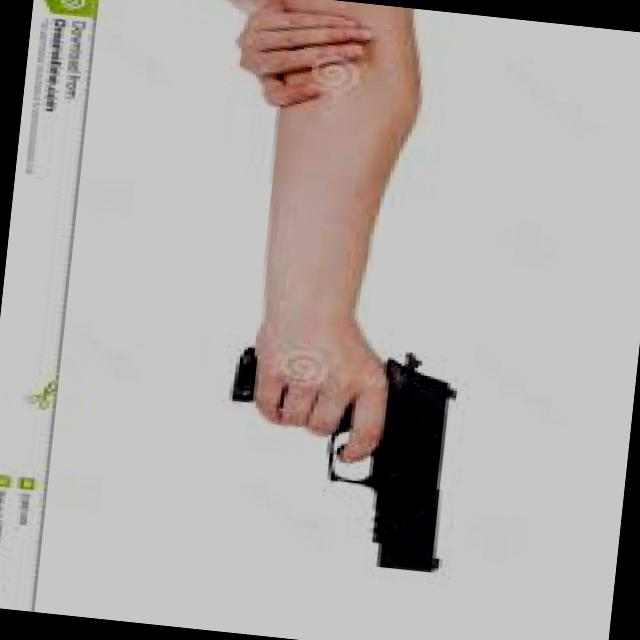handgun: (208, 333, 470, 576)
